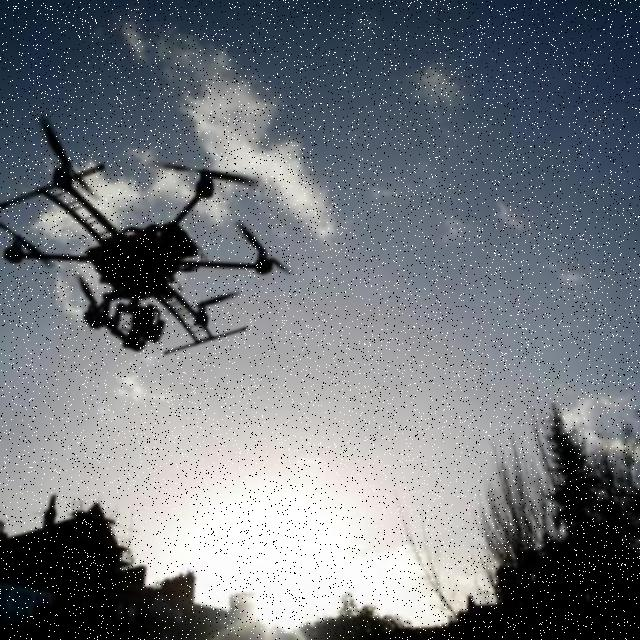UAV: (2, 155, 282, 357)
